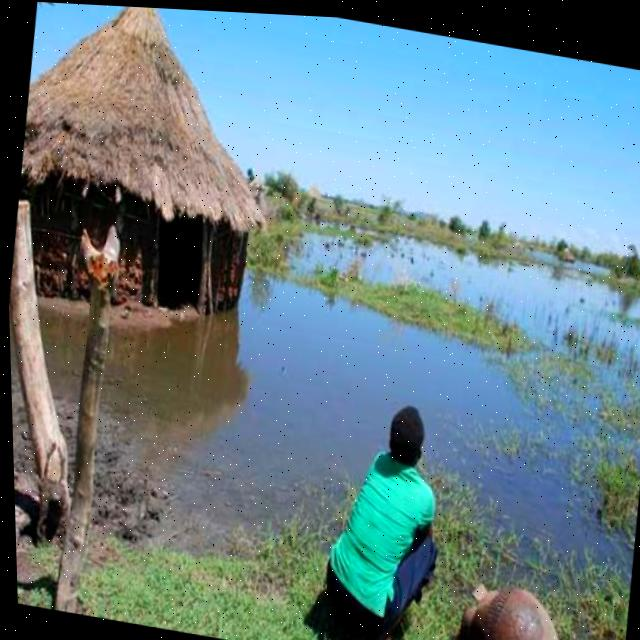civilian: (293, 362, 458, 640)
